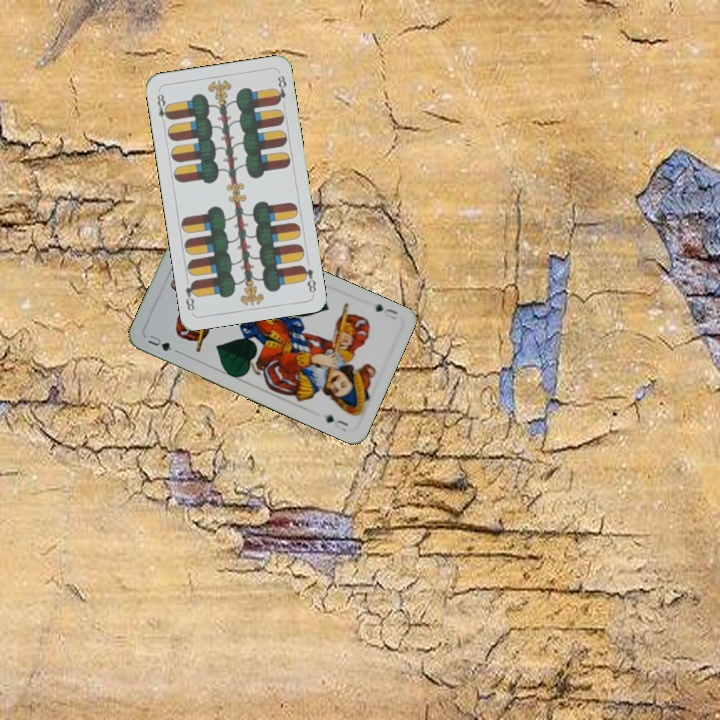E8: (153, 90, 173, 128), (297, 261, 319, 295)
GU: (144, 330, 180, 355), (371, 300, 400, 322)
